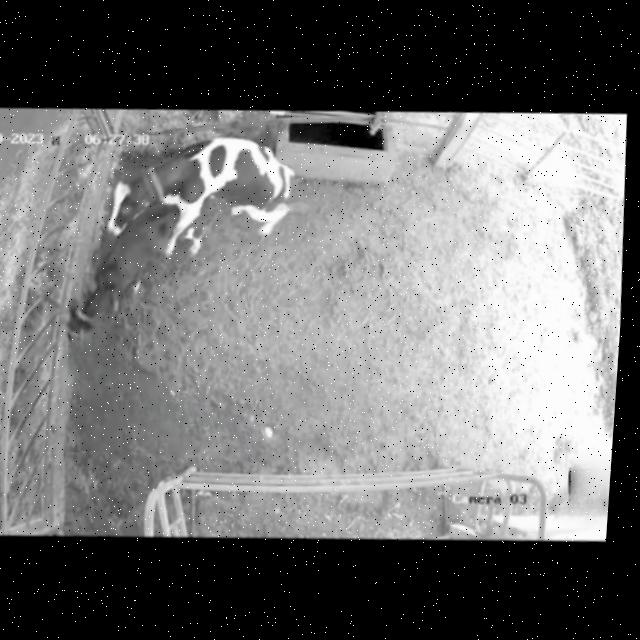ride: (95, 119, 306, 271)
stand: (52, 199, 225, 356)
